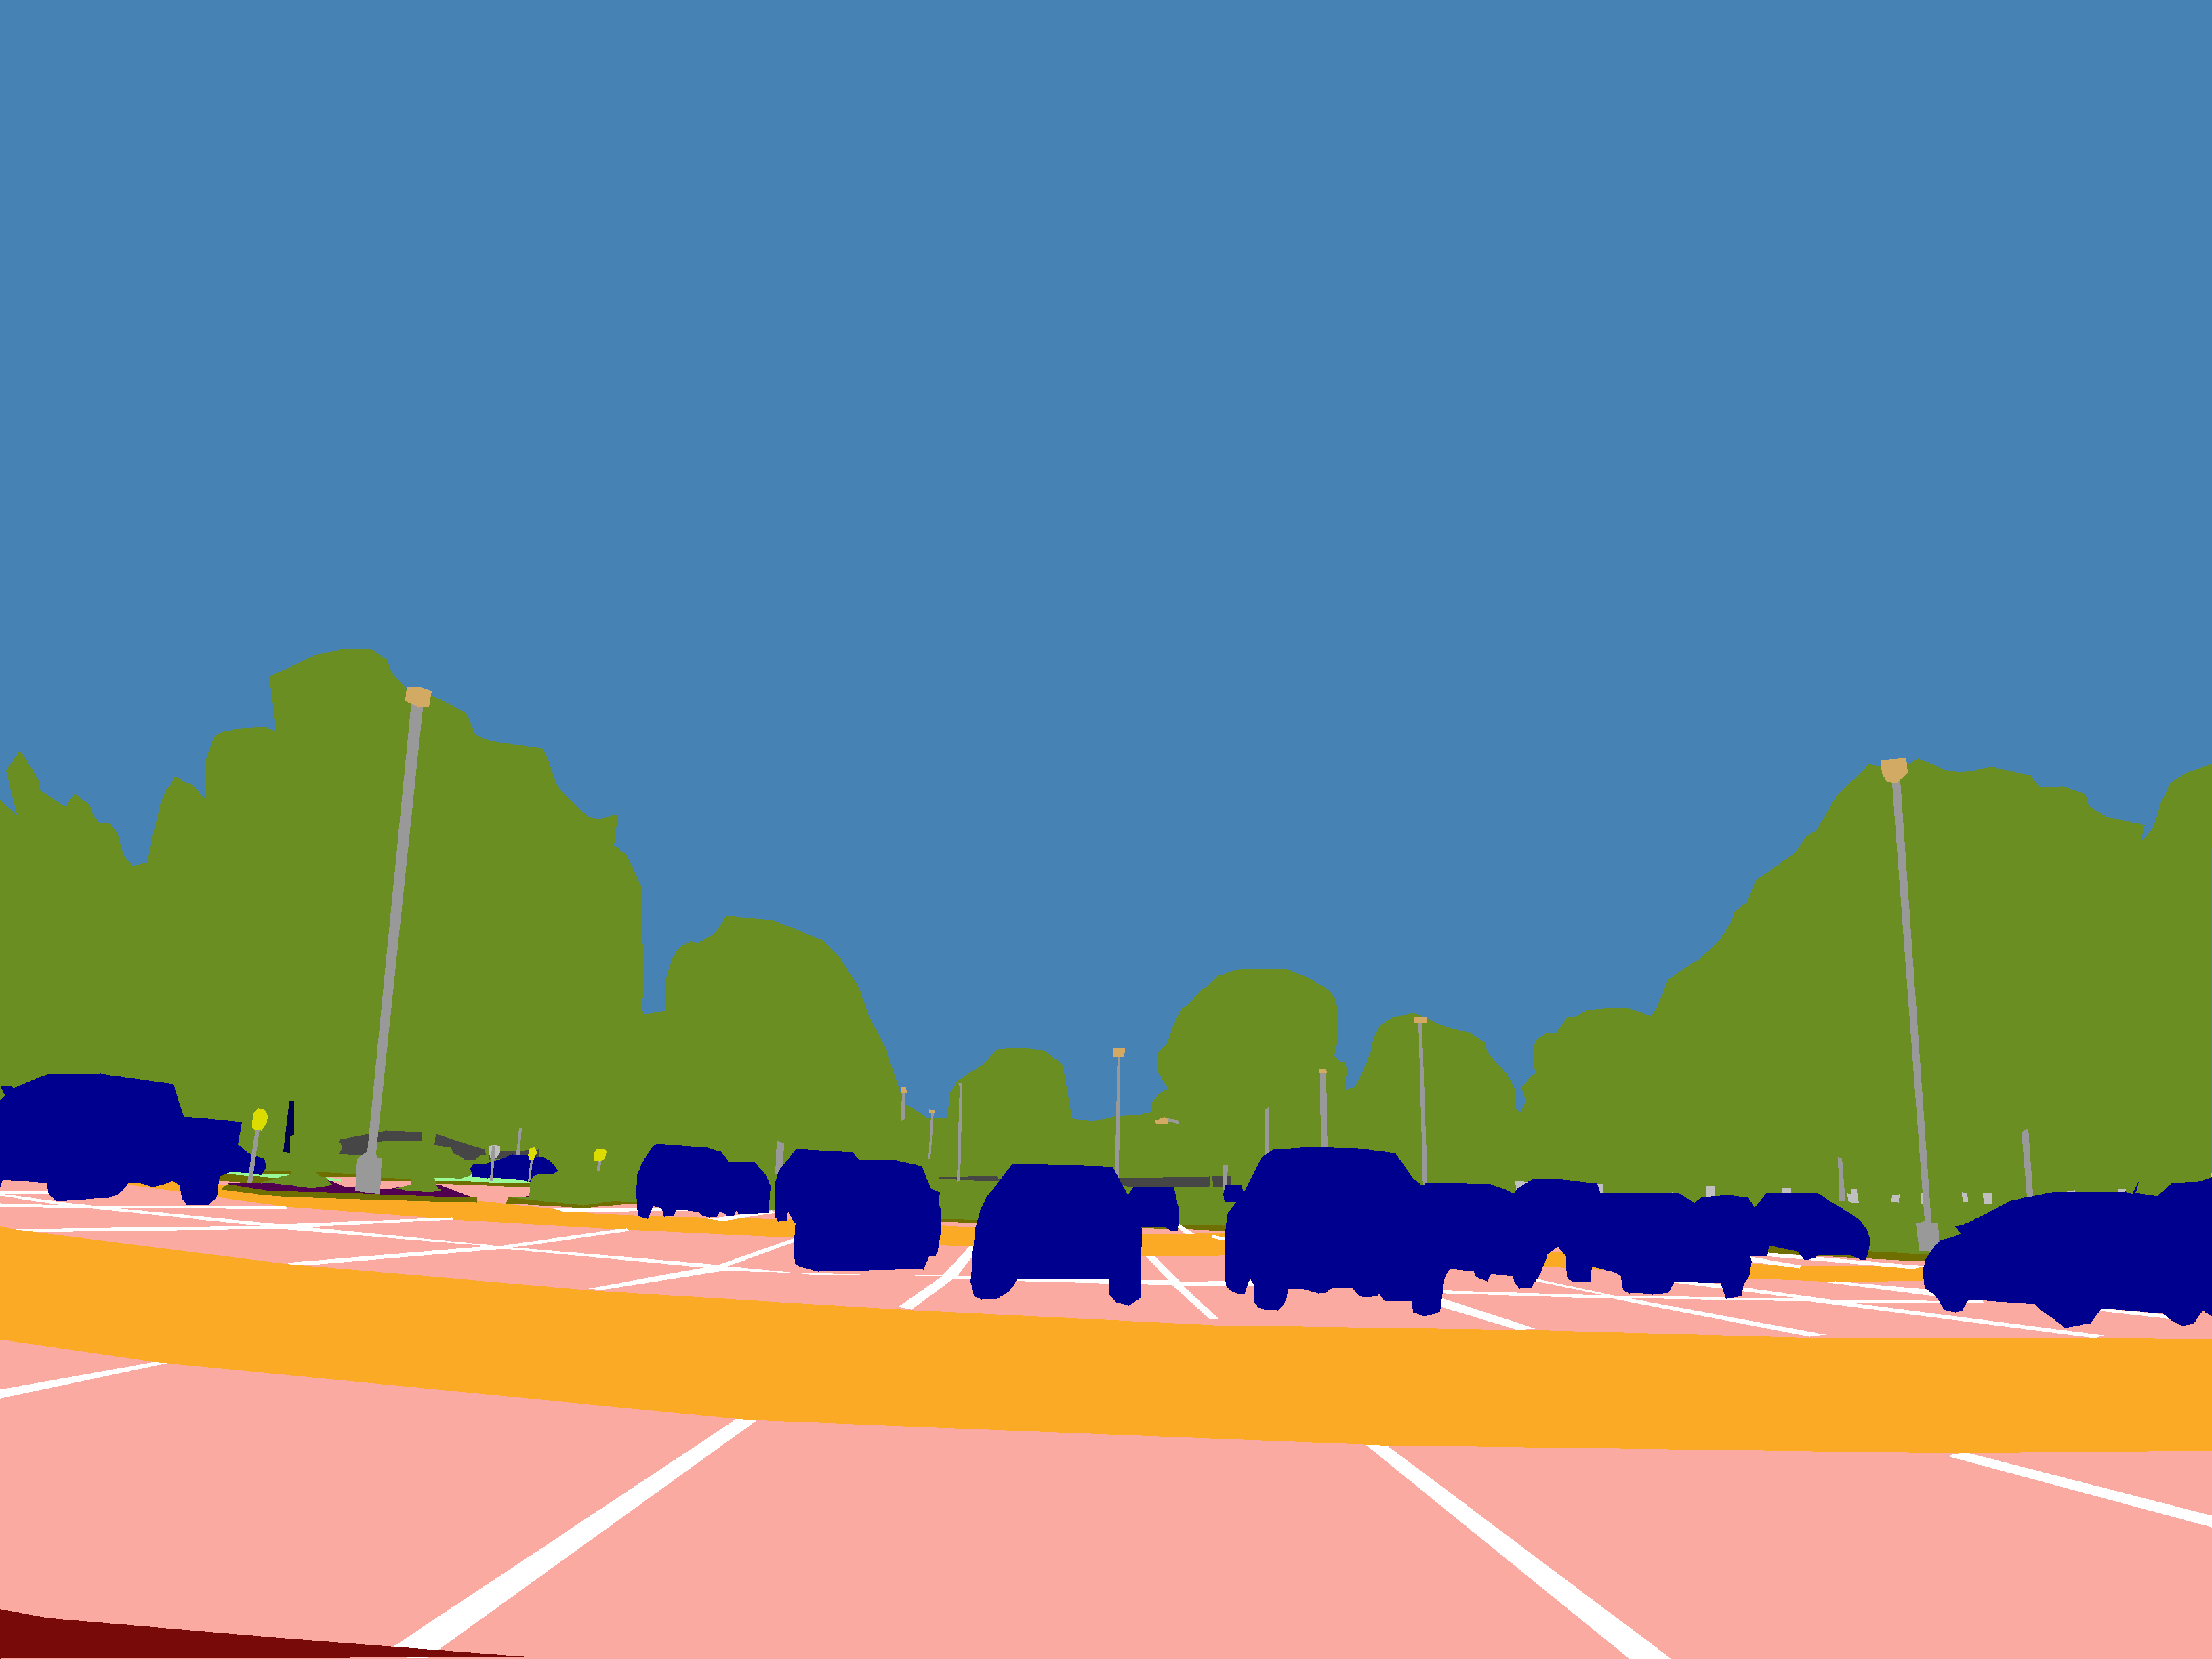marking--discrete--other-marking: (0, 1190, 2168, 1337), (394, 1419, 756, 1659), (1366, 1445, 1670, 1659), (1947, 1453, 2212, 1527), (0, 1363, 165, 1398), (1764, 1253, 1923, 1269), (1750, 1256, 1801, 1269), (709, 1211, 773, 1220), (554, 1208, 688, 1211), (1177, 1223, 1193, 1234), (1212, 1236, 1224, 1239)
object--street-light: (1881, 758, 1907, 782), (406, 687, 430, 708), (1113, 1047, 1125, 1058), (1414, 1016, 1426, 1023), (1155, 1117, 1167, 1124), (900, 1087, 906, 1093), (1320, 1070, 1325, 1073), (928, 1110, 934, 1114)
object--support--pole: (355, 704, 421, 1194), (1892, 781, 1939, 1251), (1418, 1023, 1426, 1183), (2022, 1129, 2033, 1197), (247, 1131, 260, 1183), (1115, 1058, 1120, 1178), (956, 1082, 961, 1182), (1320, 1073, 1327, 1147), (1838, 1157, 1844, 1201), (775, 1140, 784, 1173), (928, 1114, 934, 1159), (489, 1145, 495, 1180), (1264, 1107, 1268, 1155), (516, 1127, 521, 1154), (1223, 1164, 1228, 1188), (900, 1093, 904, 1121), (1167, 1117, 1179, 1124), (528, 1159, 531, 1182), (597, 1161, 601, 1171)
object--support--utility-pole: (284, 1101, 293, 1154)
object--traffic-sign--ambiguous: (1848, 1188, 1858, 1202), (1982, 1192, 1993, 1204), (1515, 1180, 1527, 1188), (1705, 1187, 1714, 1195), (1961, 1192, 1968, 1201), (1892, 1194, 1898, 1202), (1597, 1183, 1602, 1192), (1782, 1188, 1791, 1192), (2118, 1188, 2125, 1192), (1921, 1194, 1923, 1202), (2067, 1190, 2074, 1192)
object--traffic-sign--back: (489, 1145, 500, 1159)
object--traffic-sign--front: (253, 1108, 266, 1131), (594, 1148, 606, 1161), (528, 1147, 536, 1159)
object--vehicle--car: (1923, 1182, 2212, 1328), (1223, 1147, 1451, 1316), (0, 1073, 242, 1204), (970, 1164, 1148, 1305), (1566, 1192, 1750, 1298), (794, 1159, 941, 1272), (1423, 1183, 1548, 1288), (1754, 1194, 1871, 1260), (636, 1143, 738, 1218), (2158, 1178, 2212, 1316), (1514, 1178, 1601, 1256), (775, 1148, 859, 1223), (1695, 1195, 1768, 1256), (470, 1154, 557, 1182), (1129, 1187, 1179, 1230), (728, 1162, 770, 1213), (232, 1145, 266, 1175)
